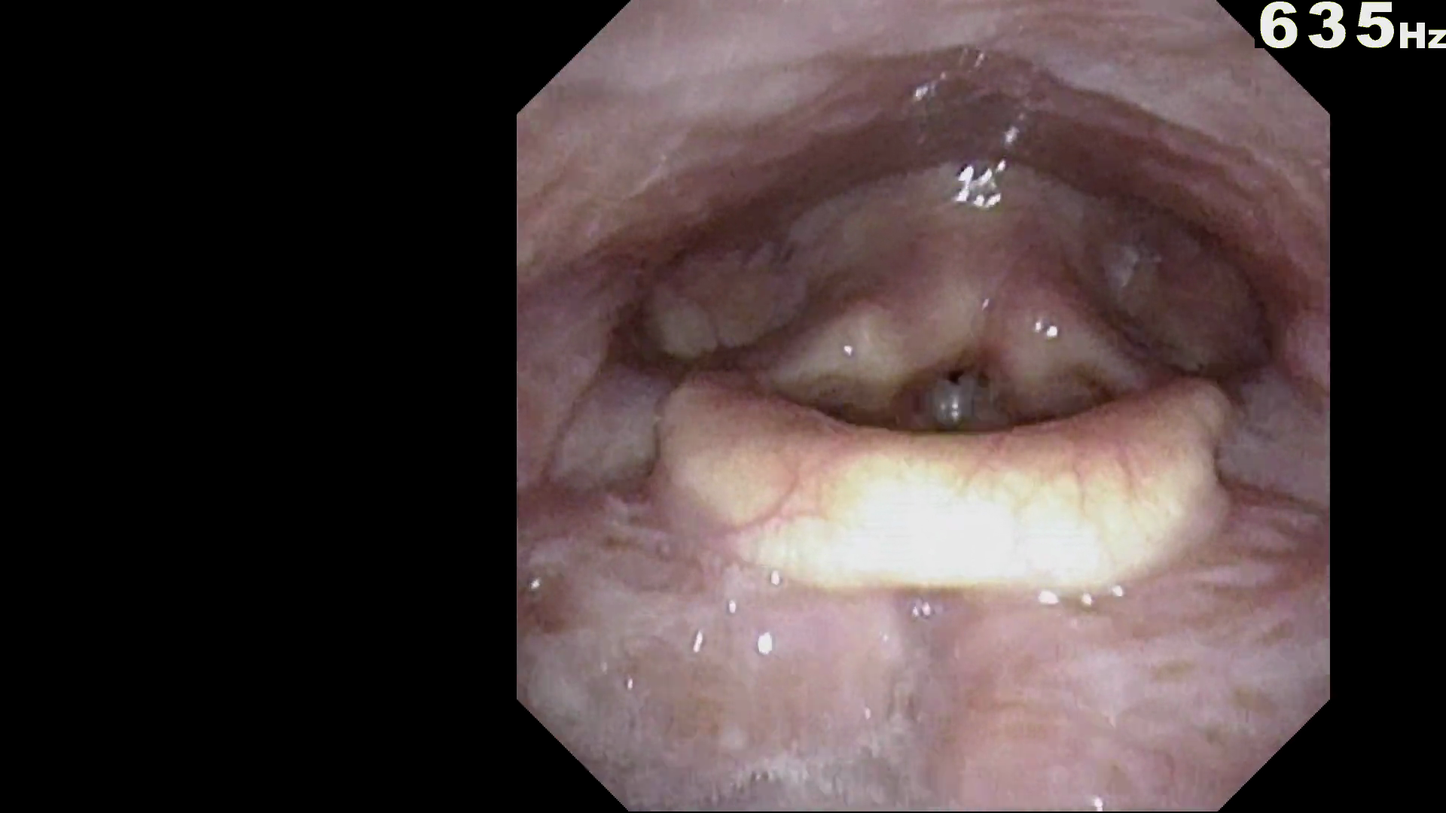epiglottis: (658, 386, 1243, 623)
